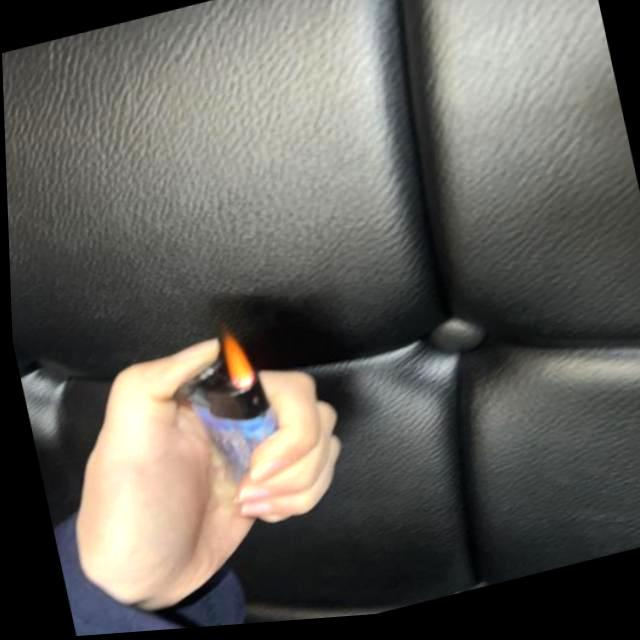fire: (213, 328, 251, 396)
